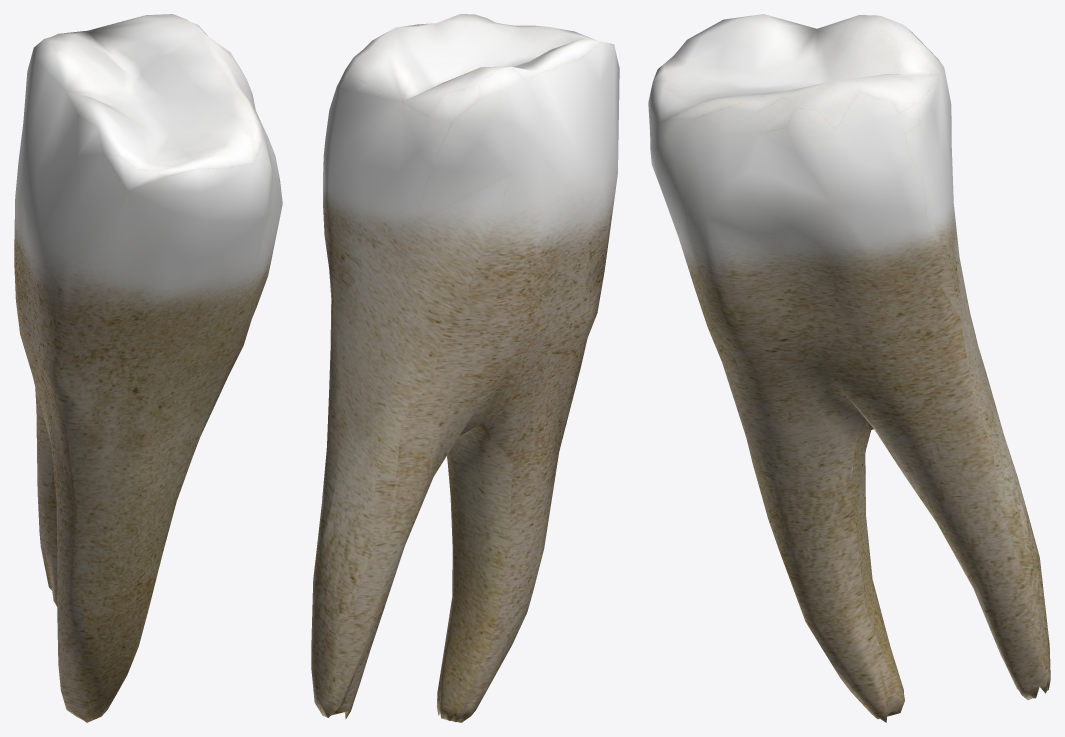
File: эрүүний 1-р их араа.fbx
3 renders of one model, left to right at view 1: azimuth 30°, elevation 25°; view 2: azimuth 150°, elevation 25°; view 3: azimuth 270°, elevation 25°, orthographic. The views are drawn at different scales.
Parts seen in each view (by area): view 1: polySurface56; view 2: polySurface56; view 3: polySurface56.
Boxes of the visible parts, x1,y1,x2,y2 form: polySurface56: (14, 14, 282, 722); polySurface56: (311, 14, 619, 722); polySurface56: (648, 14, 1050, 722).
Size of the model in its own units: 3.54 by 9.84 by 5.25.
1 material, 1 textured.
